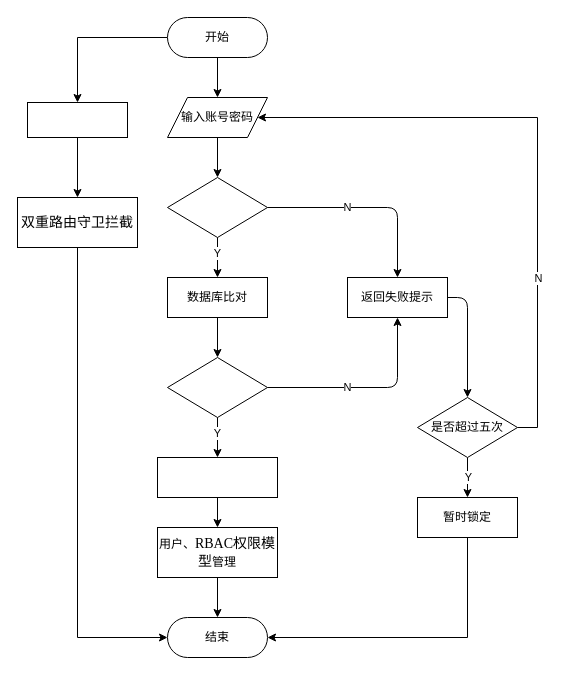
Some shapes in this 563 by 675 pixel diagram are drawn without their labels. Here are the shapes that lost their labels. From the top down, the centre of each, then its label:
At point (77, 120): "未授权、越权访问".
At point (217, 207): "校验口令格式".
At point (217, 387): "比对成功?".
At point (217, 477): "生成JWT Token返回".
